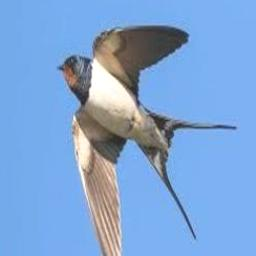Swallow: (58, 26, 237, 256)
